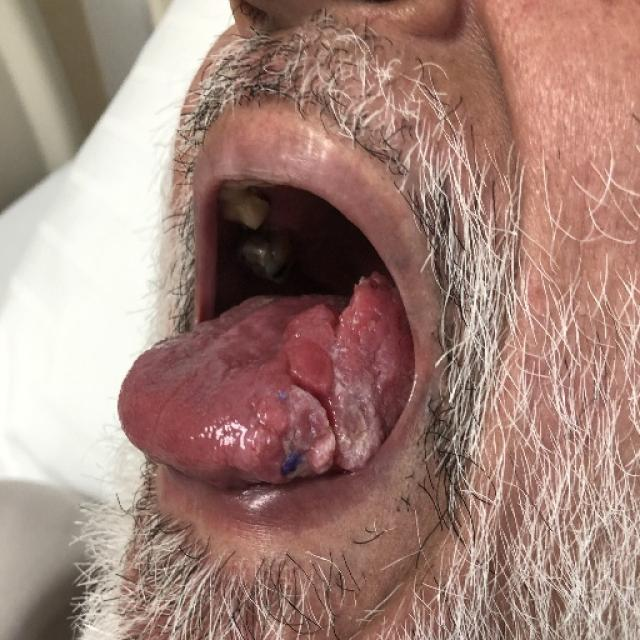cancer-detection: (250, 266, 409, 487)
processing_area: (116, 266, 415, 503)
